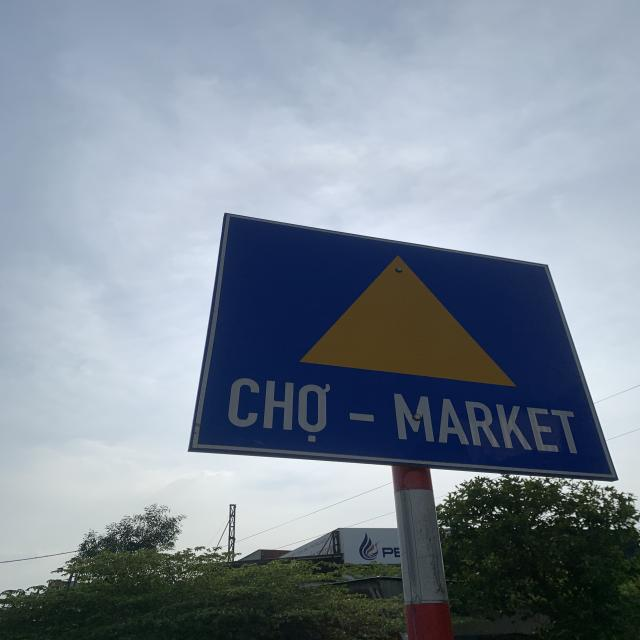Cho_Quay_Xe: (195, 210, 615, 477)
